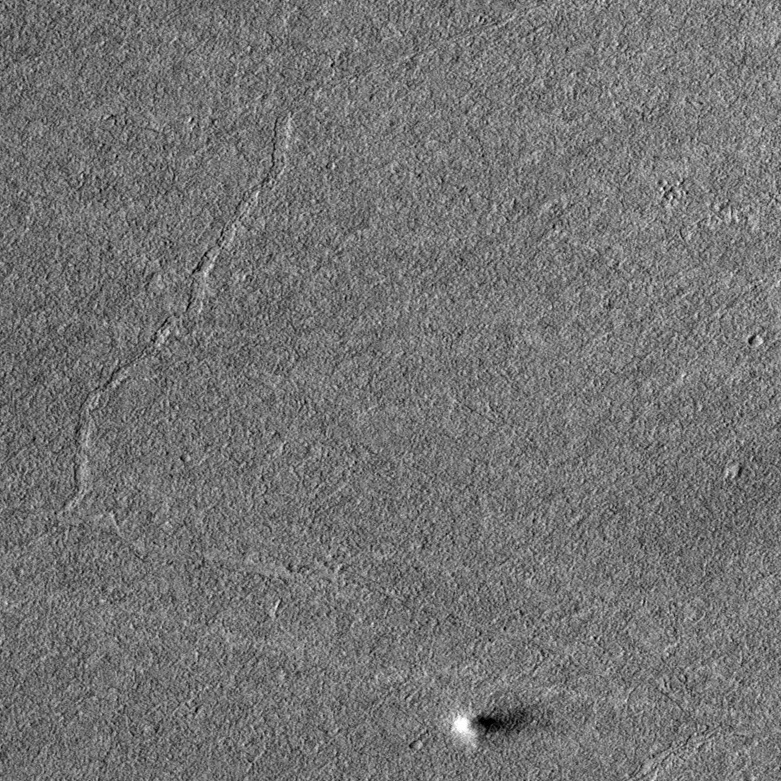dust_devil: (447, 703, 550, 752)
